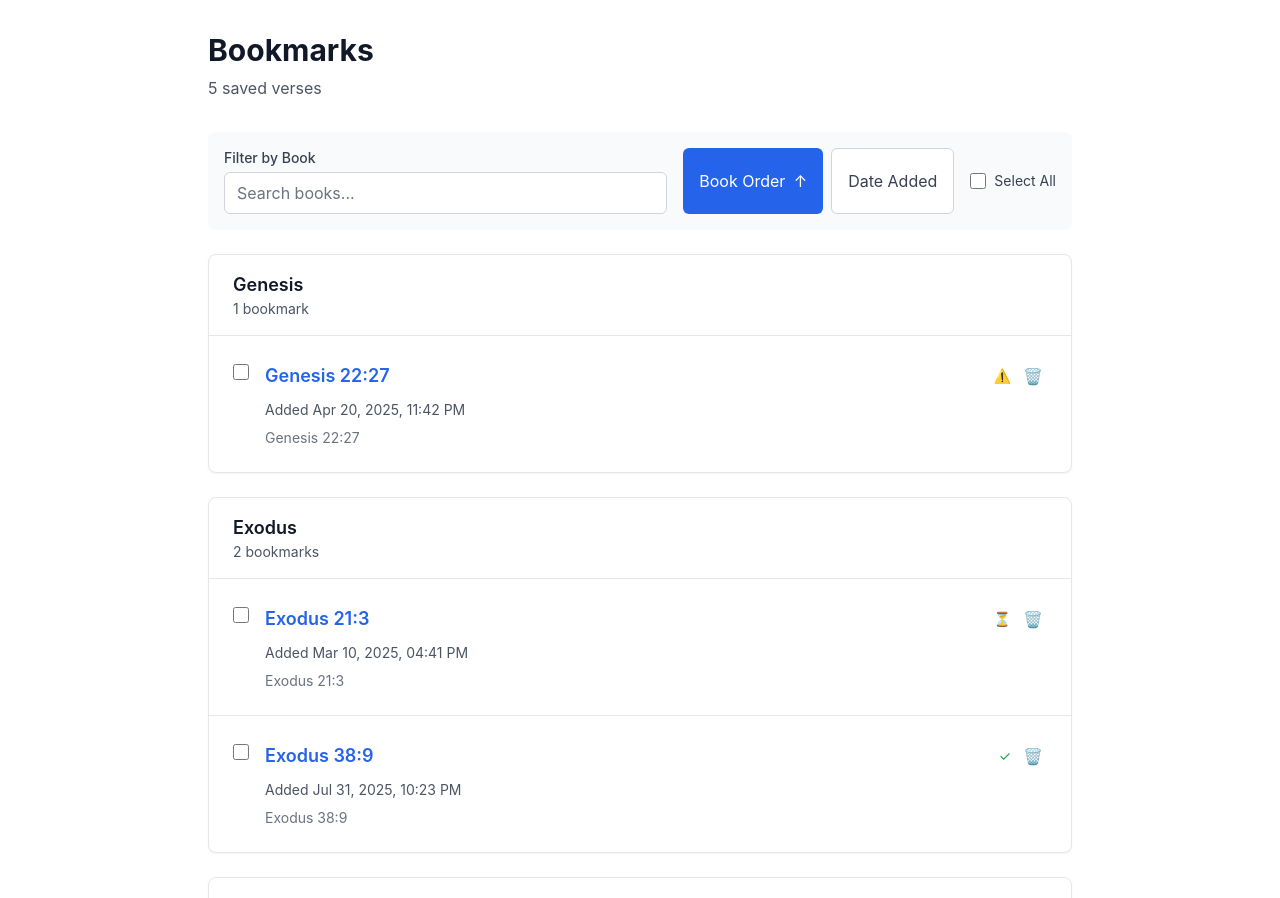
BookmarksView › Deletion Functionality › shows confirmation modal when delete is clicked
The width and height of the screenshot is (1280, 898).
Click the 1st button "🗑️": (1033, 376) [1019,360,1047,392]
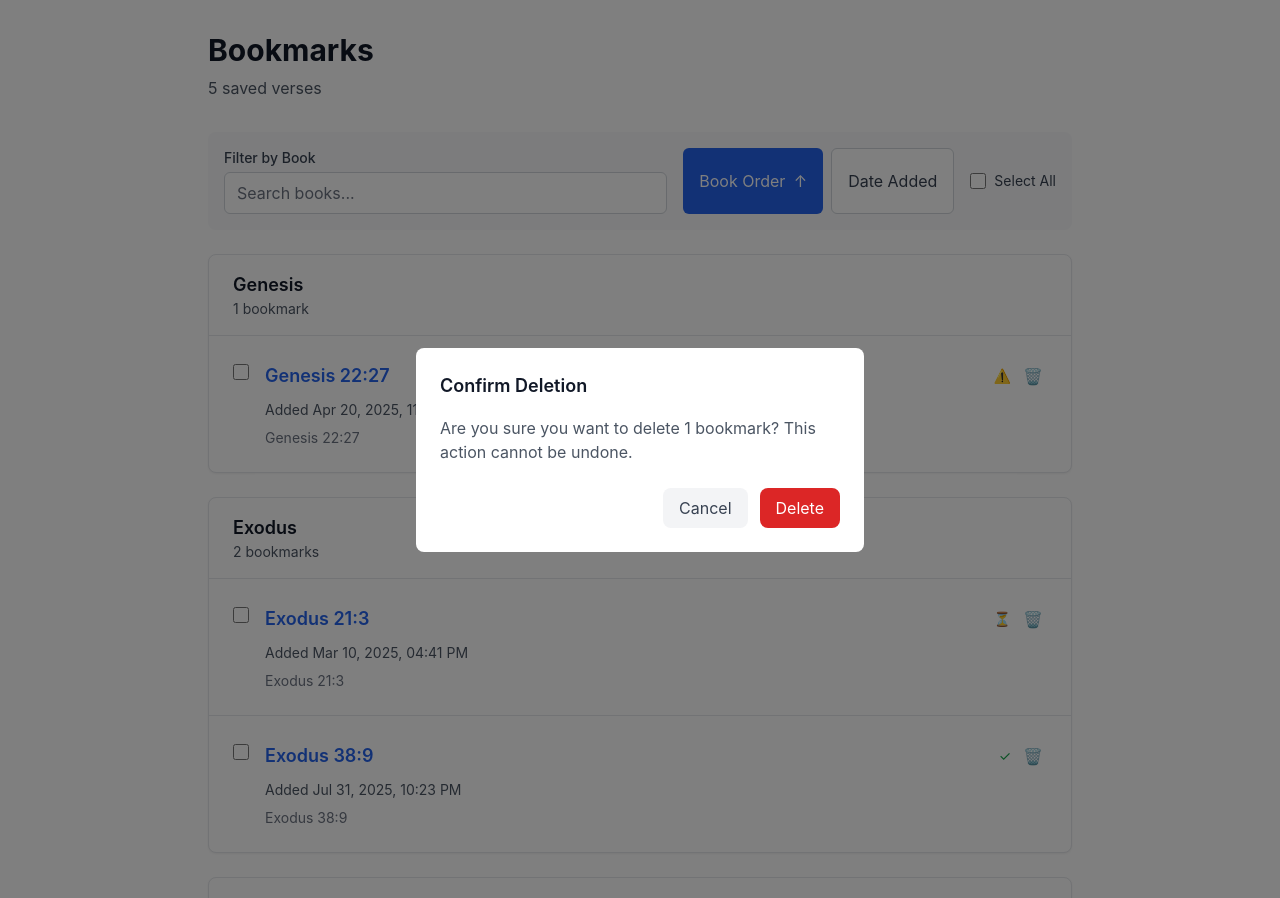
Expected: the text "Confirm Deletion" is shown, [440,375,587,396]
